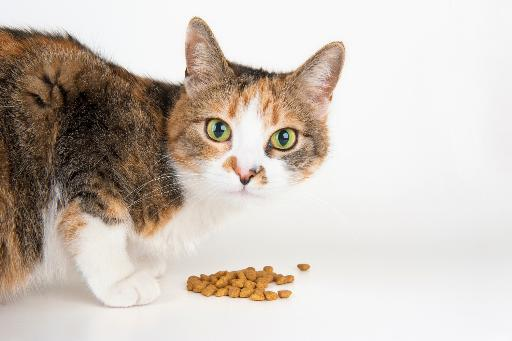cat_eating: (0, 17, 345, 307), (186, 266, 294, 300)
